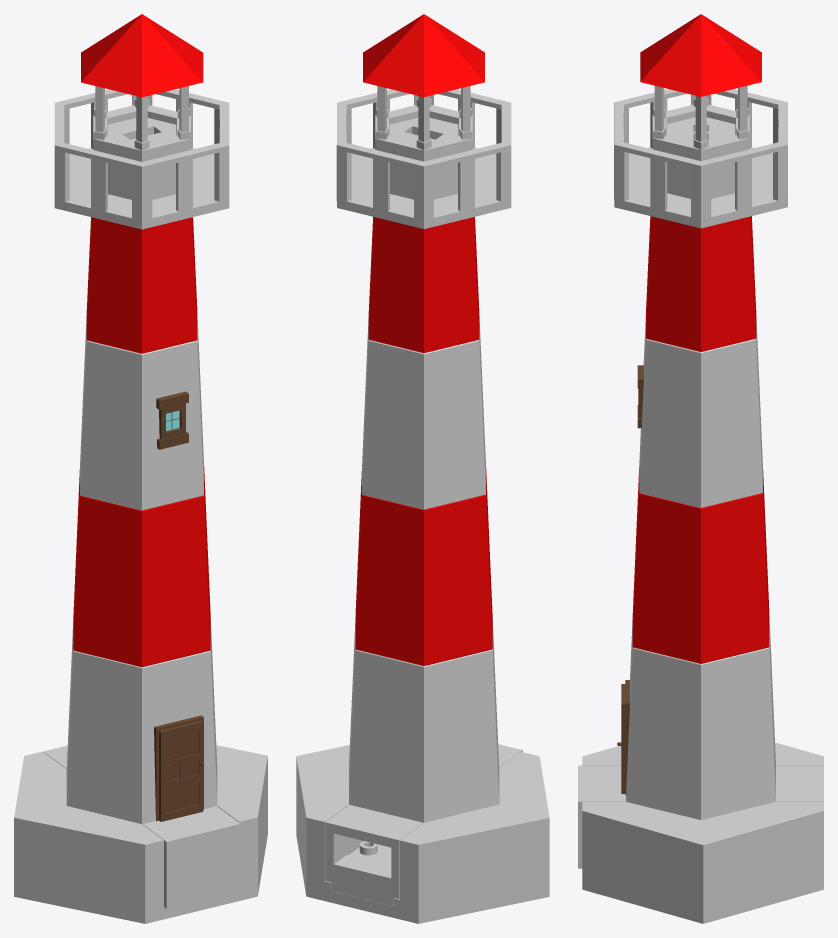
The model's file is obudowa_ready.fbx.
The picture shows the model from 3 angles, left to right: view 1: azimuth 30°, elevation 25°; view 2: azimuth 150°, elevation 25°; view 3: azimuth 270°, elevation 25°; orthographic projection.
Parts seen in each view (by area): view 1: base, lighthouse.006, lighthouse.004, lighthouse.005, lighthouse.002, handrails, drawer, roof, lighthouse, door, window, led_base; view 2: base, lighthouse.004, lighthouse.006, lighthouse.005, lighthouse.002, handrails, roof, drawer, lighthouse, led_base; view 3: base, lighthouse.004, lighthouse.006, lighthouse.005, lighthouse.002, handrails, roof, lighthouse, drawer, led_base, door.
Boxes of the visible parts, box(x1,y1,x2,y2) form: base: box(14, 745, 267, 923); lighthouse.006: box(73, 466, 210, 667); lighthouse.004: box(66, 619, 217, 824); lighthouse.005: box(80, 314, 203, 510); lighthouse.002: box(86, 217, 197, 353); handrails: box(54, 89, 229, 229); drawer: box(43, 745, 240, 908); roof: box(81, 14, 203, 97); lighthouse: box(93, 86, 190, 199); door: box(154, 715, 204, 821); window: box(156, 391, 188, 449); led_base: box(107, 118, 176, 142); base: box(296, 745, 549, 923); lighthouse.004: box(349, 617, 499, 822); lighthouse.006: box(355, 468, 492, 665); lighthouse.005: box(362, 315, 485, 509); lighthouse.002: box(368, 217, 479, 352); handrails: box(336, 89, 511, 228); roof: box(363, 14, 484, 97); drawer: box(325, 744, 522, 905); lighthouse: box(375, 86, 472, 199); led_base: box(389, 117, 458, 141); base: box(582, 742, 823, 923); lighthouse.004: box(626, 615, 775, 819); lighthouse.006: box(632, 468, 769, 663); lighthouse.005: box(639, 315, 762, 507); lighthouse.002: box(646, 216, 756, 351); handrails: box(614, 89, 787, 228); roof: box(640, 14, 761, 96); lighthouse: box(652, 85, 749, 198); drawer: box(578, 765, 823, 868); led_base: box(667, 117, 735, 141); door: box(617, 680, 629, 795).
Size of the model in its own units: 6.25 by 7.41 by 23.79.
